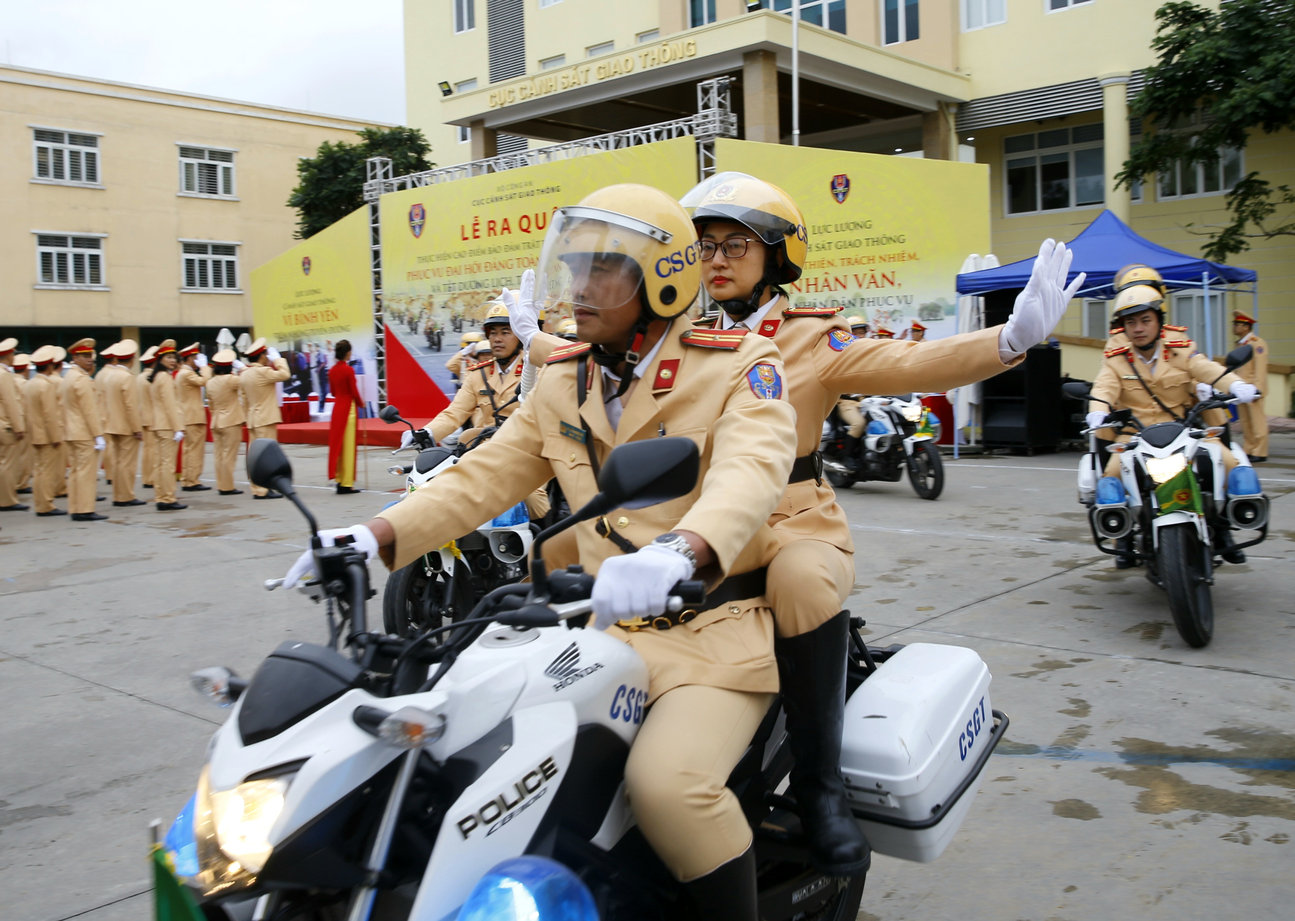xe_canh_sat: (133, 535, 1015, 915), (1073, 385, 1276, 644), (811, 378, 947, 500)
